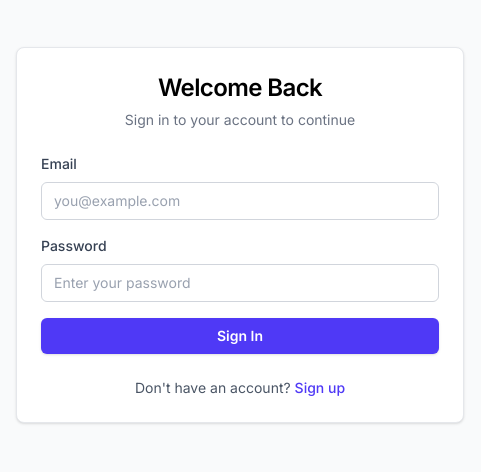
Test: LoginPage › clears error when user starts typing
In the field labelled "Email": [240, 201] box [41, 182, 439, 220], type "test@example.com"
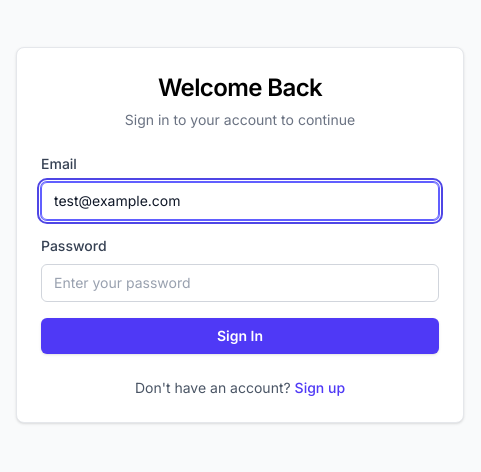
In the password field labelled "Password": [240, 283] box [41, 264, 439, 302], type "wrong"
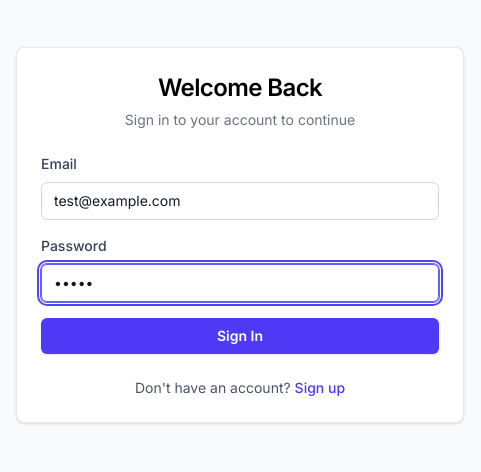
Click the button "Sign In": [240, 336] box [41, 318, 439, 354]
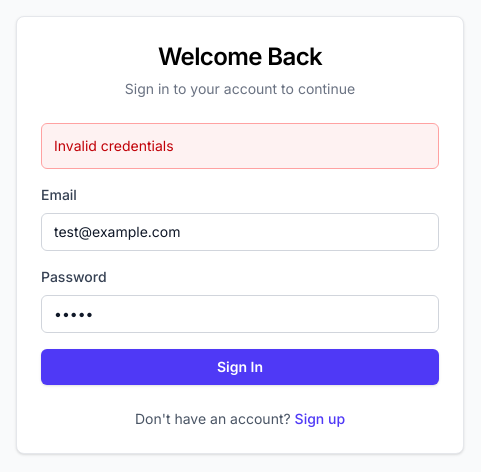
Now the text "Invalid credentials" is shown, box [41, 123, 439, 169]
// Start typing again
In the field labelled "Email": [240, 232] box [41, 213, 439, 251], type "x"
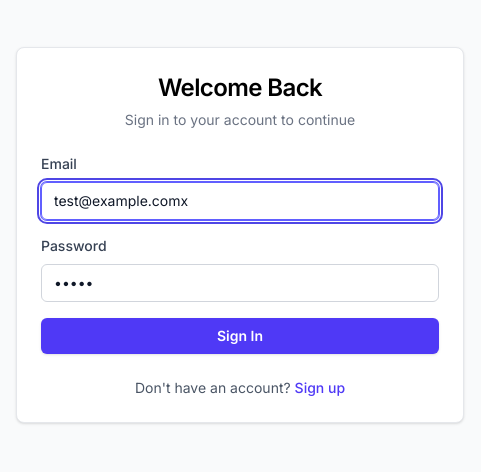
Now the text "Invalid credentials" is gone
